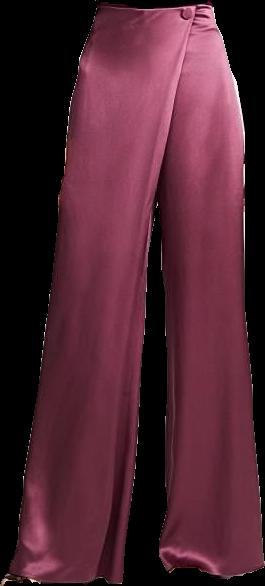Hemline: (156, 6, 264, 577), (0, 573, 116, 585)
Pantleg: (0, 3, 199, 585), (151, 3, 263, 577)
Waistline: (98, 1, 216, 14)
